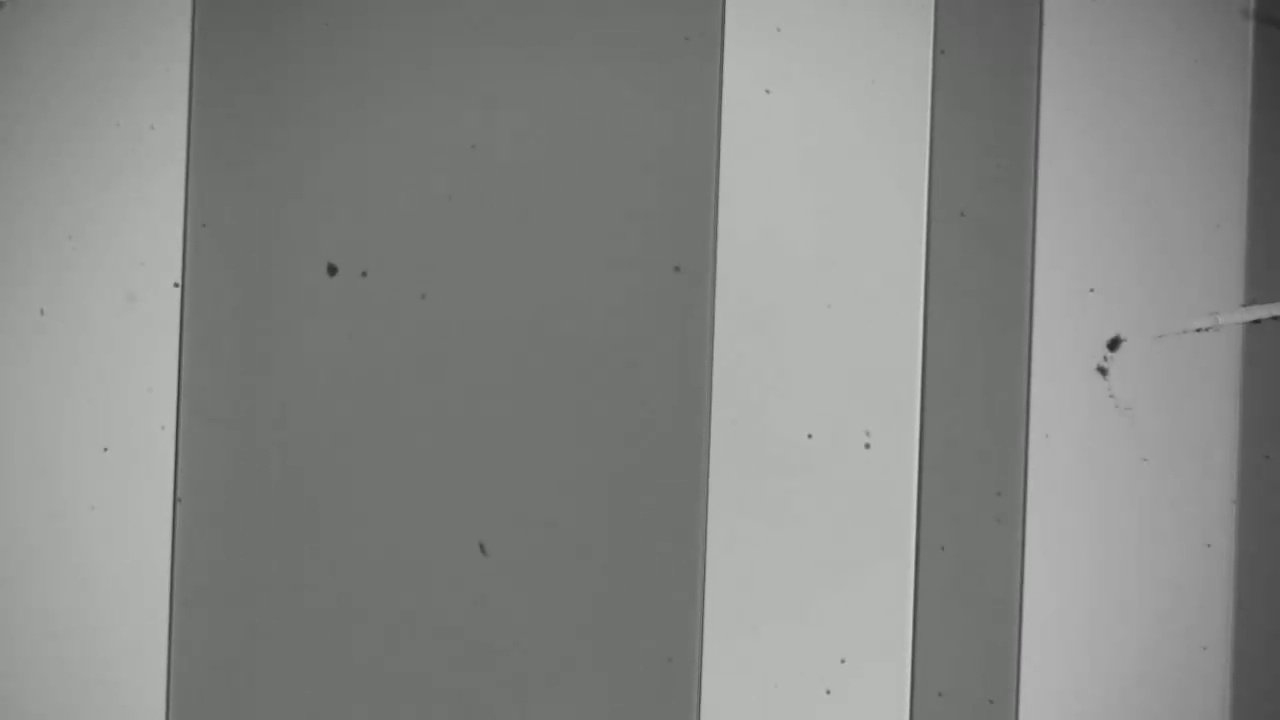Short_circuit: (1187, 282, 1279, 350)
